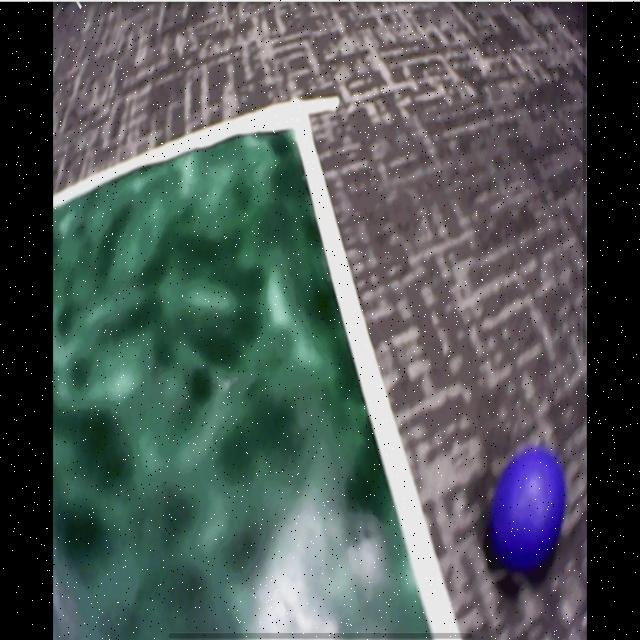ball: (491, 450, 567, 569)
